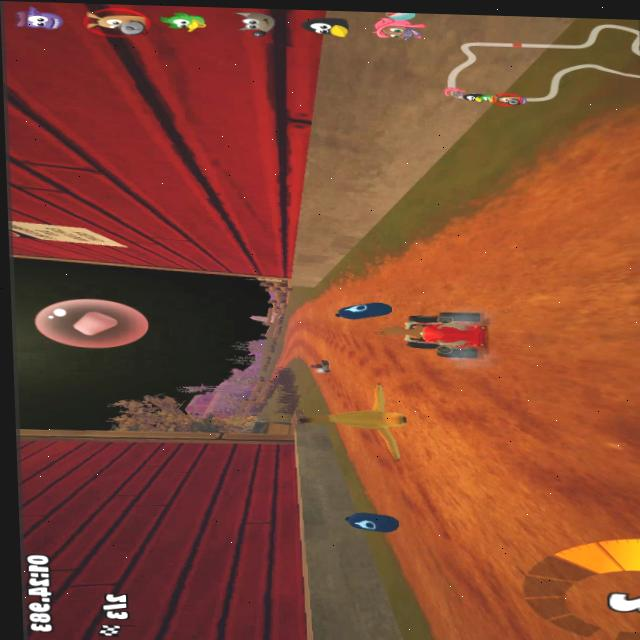enemy_kart: (313, 356, 331, 374)
nitro: (342, 503, 401, 535), (333, 295, 390, 326)
obstacle: (307, 389, 417, 446)
player_kart: (383, 311, 504, 362)
track: (477, 122, 640, 640), (406, 372, 504, 640), (411, 237, 471, 313), (349, 449, 404, 492), (334, 326, 372, 386), (302, 301, 330, 350), (383, 265, 408, 294), (268, 353, 285, 390), (287, 323, 302, 358), (290, 317, 297, 323)
